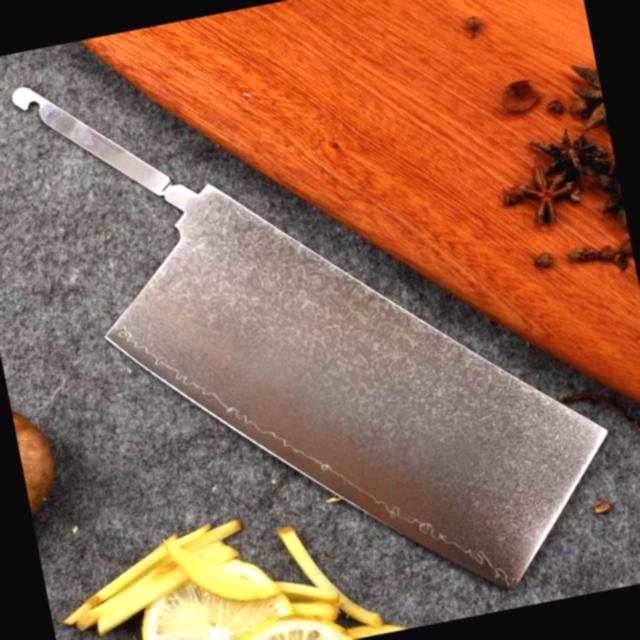cleaver: (11, 0, 626, 640)
